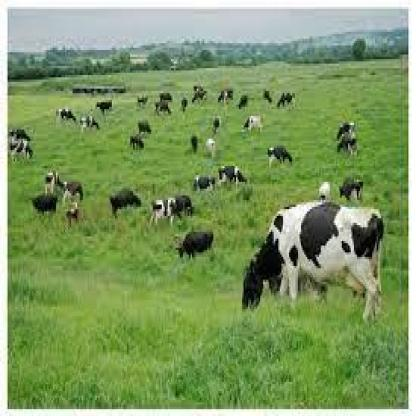cow: (243, 202, 383, 323), (178, 227, 217, 257), (110, 190, 142, 212), (336, 179, 367, 201), (154, 197, 179, 224), (29, 194, 59, 215), (219, 165, 247, 187), (270, 146, 297, 168), (7, 140, 35, 158), (334, 134, 358, 155), (60, 180, 82, 200), (192, 174, 216, 192), (80, 114, 102, 132), (276, 92, 296, 110), (244, 115, 264, 133), (61, 208, 81, 226), (54, 107, 79, 120), (177, 197, 195, 214), (45, 169, 58, 192), (336, 123, 357, 136), (236, 93, 253, 109), (8, 127, 30, 139), (321, 180, 334, 200), (154, 102, 172, 116), (95, 101, 115, 113), (135, 119, 152, 133), (135, 94, 151, 108), (132, 134, 146, 150), (217, 89, 234, 102), (190, 136, 202, 152), (190, 92, 206, 103), (262, 90, 275, 103), (211, 118, 223, 132), (206, 138, 218, 151), (182, 98, 191, 111), (159, 91, 171, 100)
